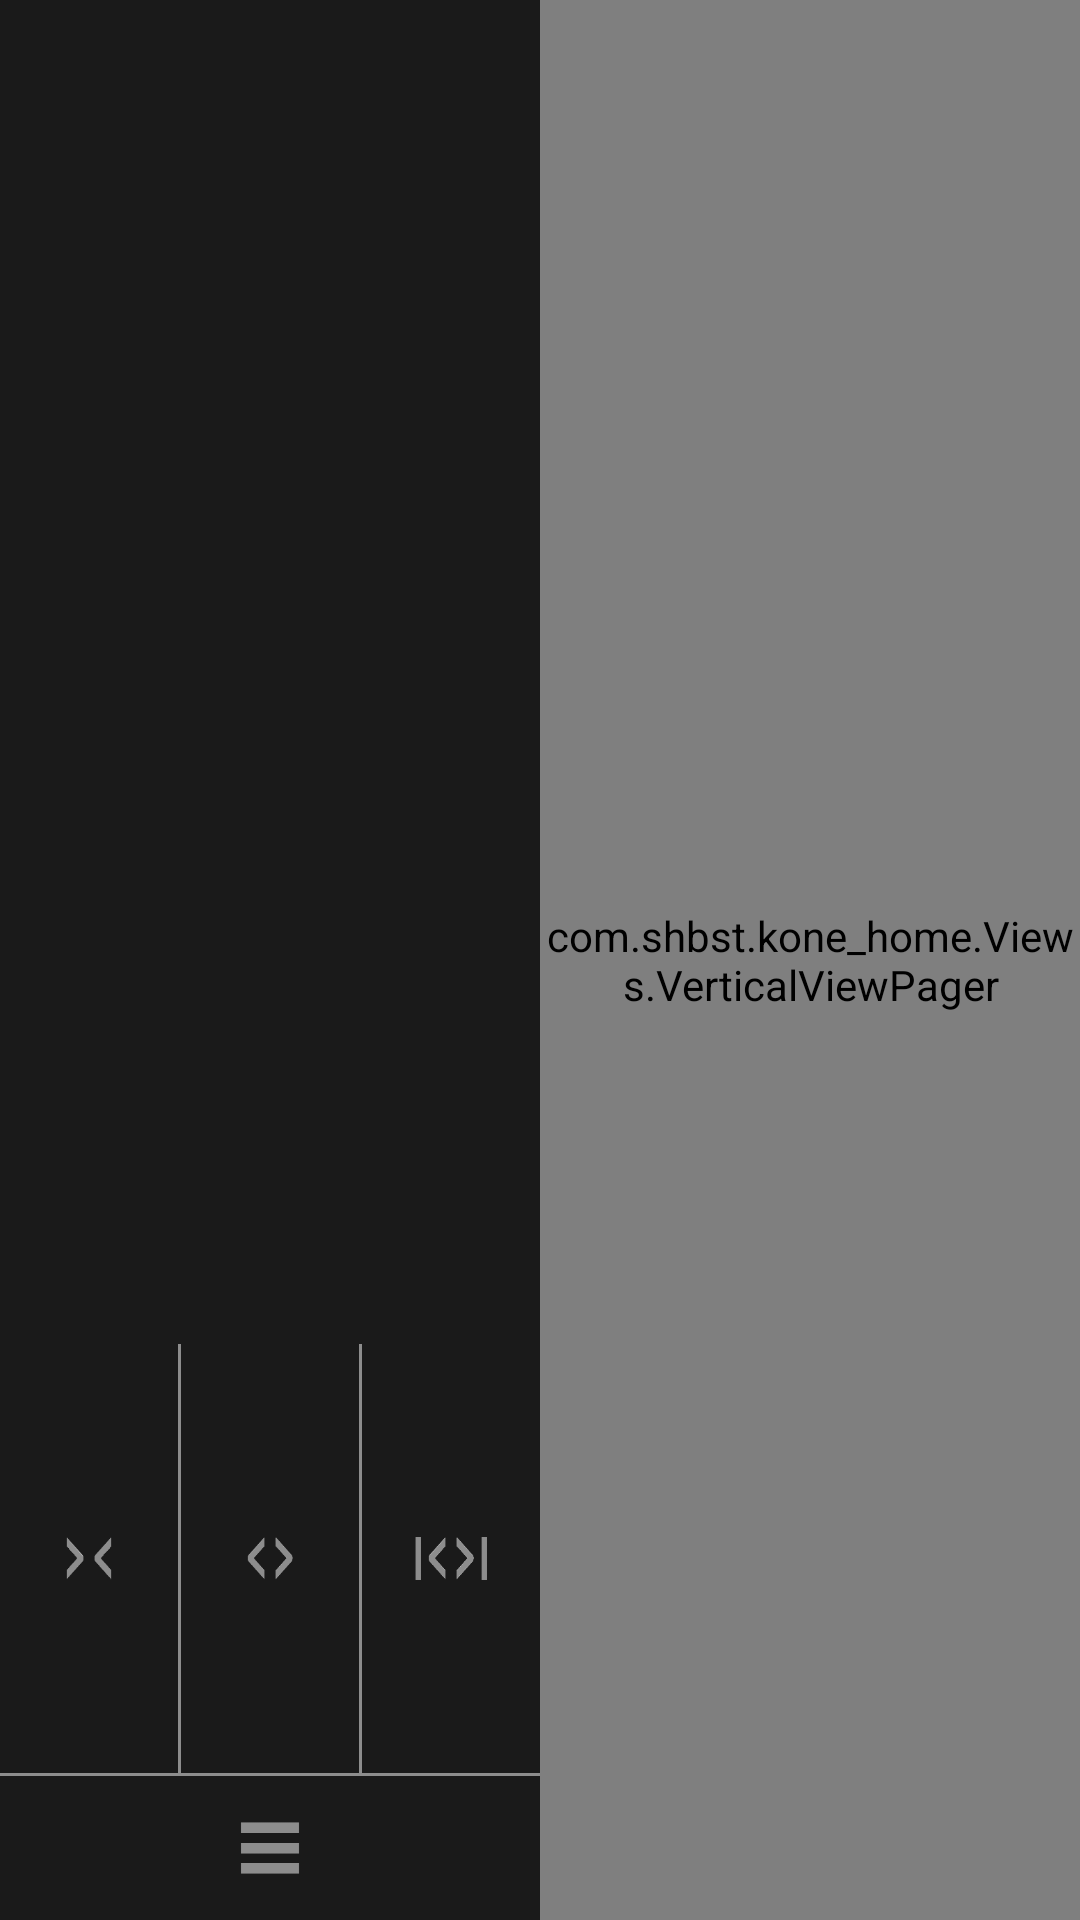

Point at icon controls on the screen. Image size 1080 x 1920, points as point (x, y).
close door: point (89, 1558)
menu: point (270, 1848)
open door: point (270, 1558)
open door delay: point (451, 1558)
